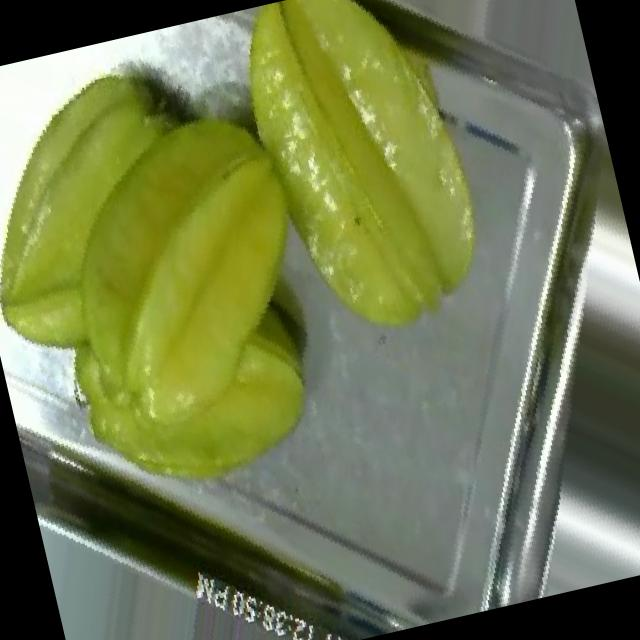fruit: (135, 0, 579, 429), (0, 95, 393, 560)
